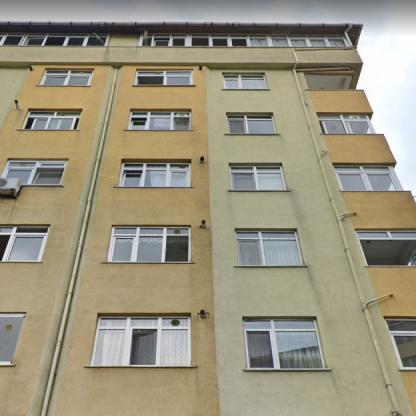window: (93, 316, 190, 366), (244, 320, 324, 368), (110, 227, 190, 262), (142, 34, 348, 46), (236, 232, 303, 266), (121, 163, 189, 187), (1, 227, 48, 261), (2, 160, 66, 184), (334, 166, 398, 190), (386, 320, 416, 368), (0, 33, 108, 46), (231, 166, 285, 189), (0, 315, 24, 362), (23, 110, 81, 129), (129, 112, 190, 130), (318, 115, 373, 133), (226, 115, 275, 133), (40, 69, 94, 85), (136, 70, 192, 84), (222, 73, 268, 89), (356, 231, 416, 239)
